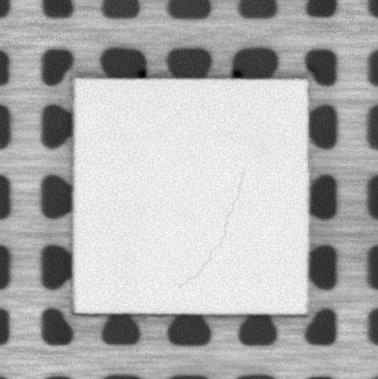DIE_CRACK: (177, 167, 243, 288)
